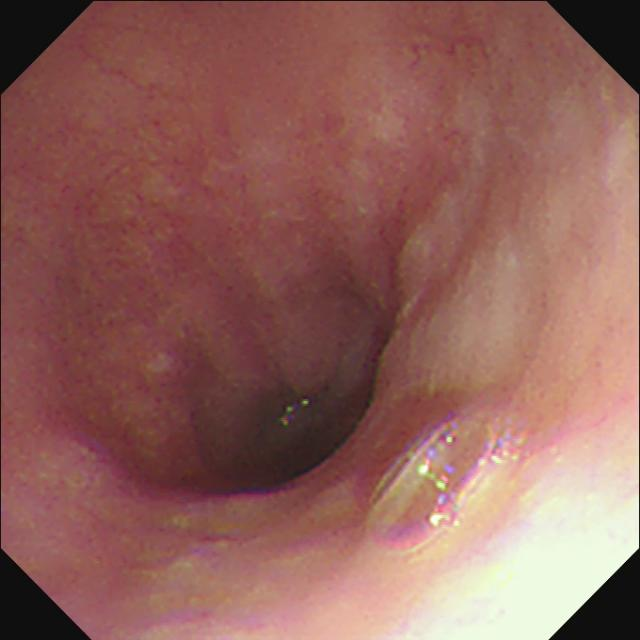E: (162, 339, 374, 515)
T: (370, 409, 508, 537)
